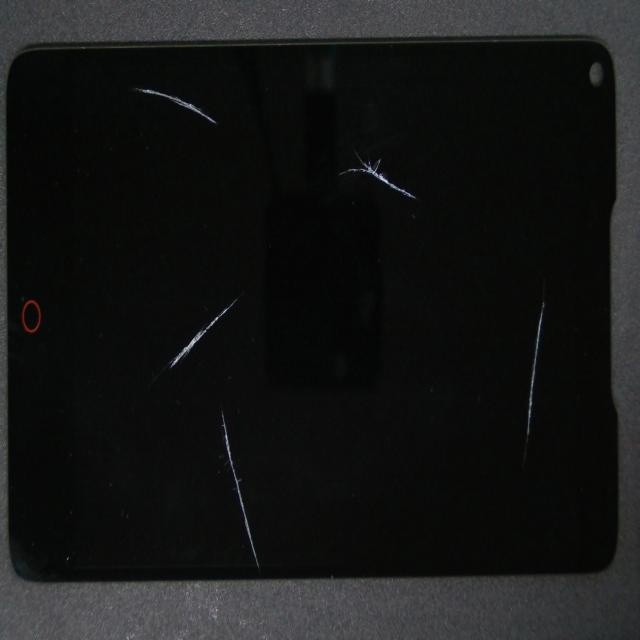scratch: (124, 159, 363, 441), (158, 376, 384, 640)
